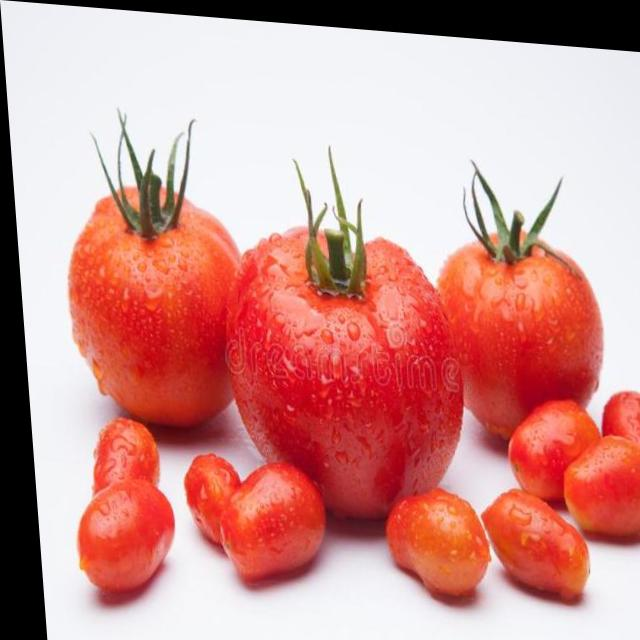kirmizi: (43, 148, 640, 558)
